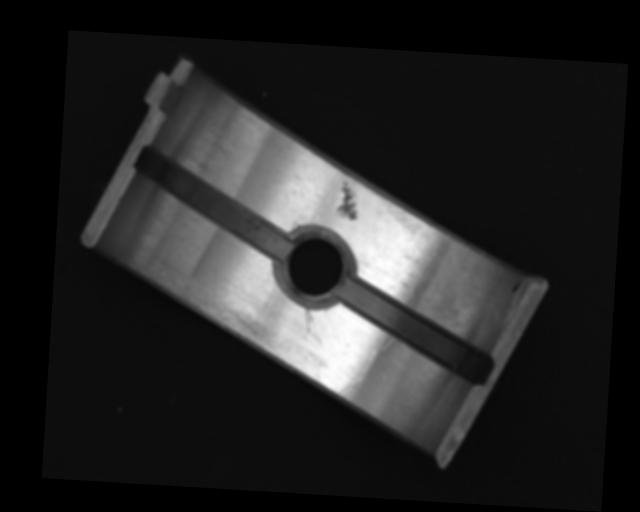blot: (510, 278, 525, 293)
bruise: (338, 180, 360, 221)
gap: (131, 147, 297, 261), (334, 279, 495, 383)
hole: (273, 226, 355, 306)
nick: (337, 345, 378, 398), (304, 307, 314, 333)
scratch: (135, 260, 280, 352)
